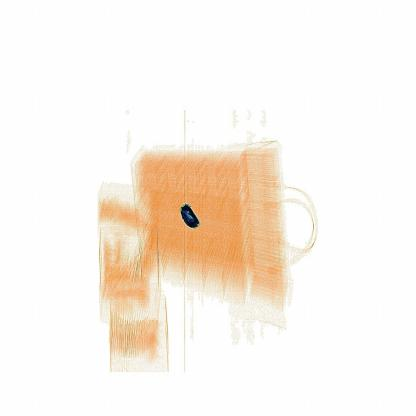scissors: (169, 193, 224, 241)
